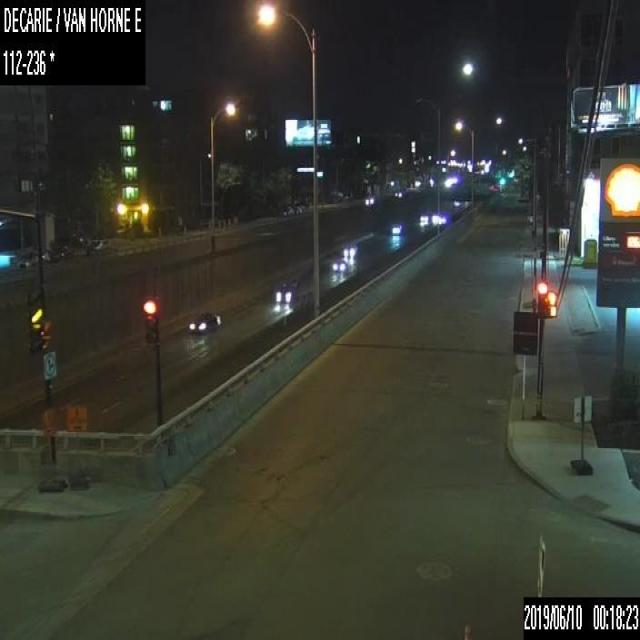construction: (38, 403, 64, 491), (571, 393, 592, 473), (68, 402, 87, 489)
vehicle: (186, 307, 221, 333), (17, 249, 49, 268), (273, 281, 298, 303), (48, 243, 73, 263), (86, 238, 110, 254), (341, 244, 357, 258), (331, 259, 348, 272), (419, 209, 432, 223), (363, 191, 378, 203), (292, 200, 305, 213), (281, 204, 292, 216), (390, 224, 401, 234), (395, 186, 407, 195)
